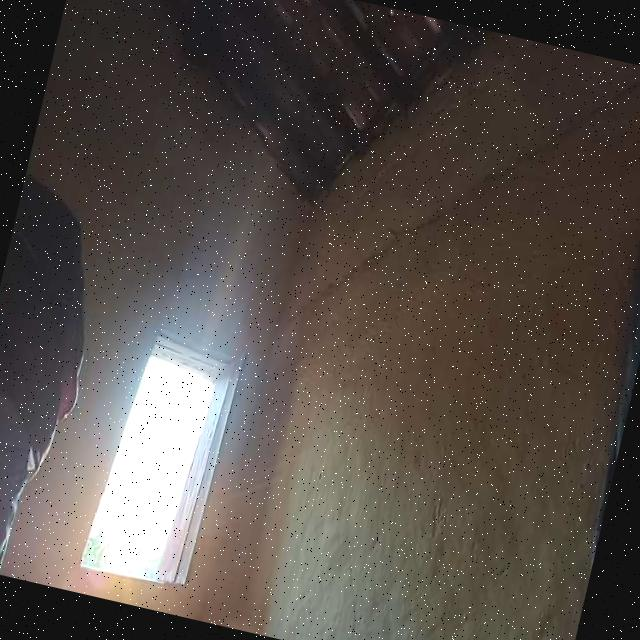colete: (0, 190, 101, 453)
pessoa: (0, 209, 123, 584)
